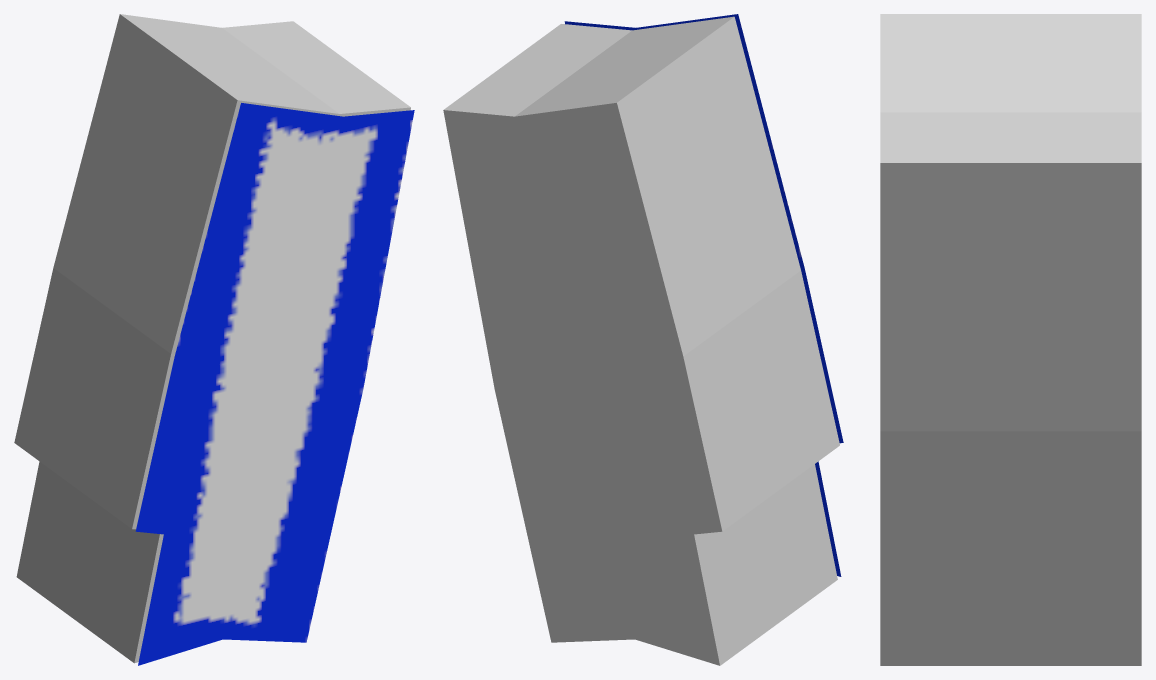
3 views of the same model, side by side, from view 1: azimuth 30°, elevation 25°; view 2: azimuth 150°, elevation 25°; view 3: azimuth 270°, elevation 25° (orthographic). The views are drawn at different scales.
Visible parts, largest first — view 1: In_11_1, In_11_0; view 2: In_11_0, In_11_1; view 3: In_11_0.
Boxes of the visible parts, x1,y1,x2,y2 form: In_11_1: [135, 103, 414, 665]; In_11_0: [14, 14, 410, 663]; In_11_0: [443, 16, 839, 665]; In_11_1: [564, 14, 843, 576]; In_11_0: [880, 14, 1141, 665].
Size of the model in its own units: 0.6841 by 1.3 by 0.515.
Materials: 2 (1 with a texture image).
